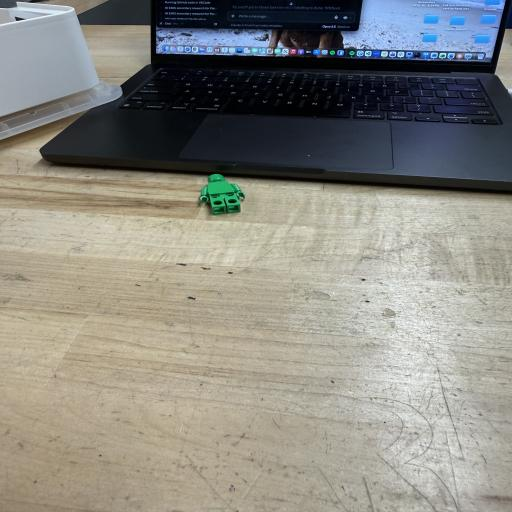green-minifig: (199, 174, 245, 215)
